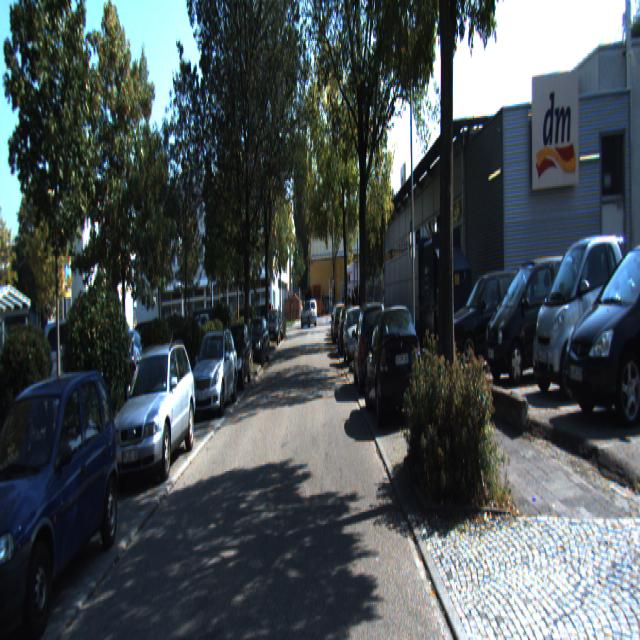Car: (0, 364, 126, 638), (530, 227, 640, 410), (560, 224, 640, 446), (481, 243, 592, 393), (109, 336, 197, 489), (446, 262, 540, 380), (364, 301, 423, 432), (188, 323, 238, 417), (352, 296, 390, 396)
DontCare: (39, 302, 122, 411), (293, 294, 352, 374), (240, 293, 286, 372)
